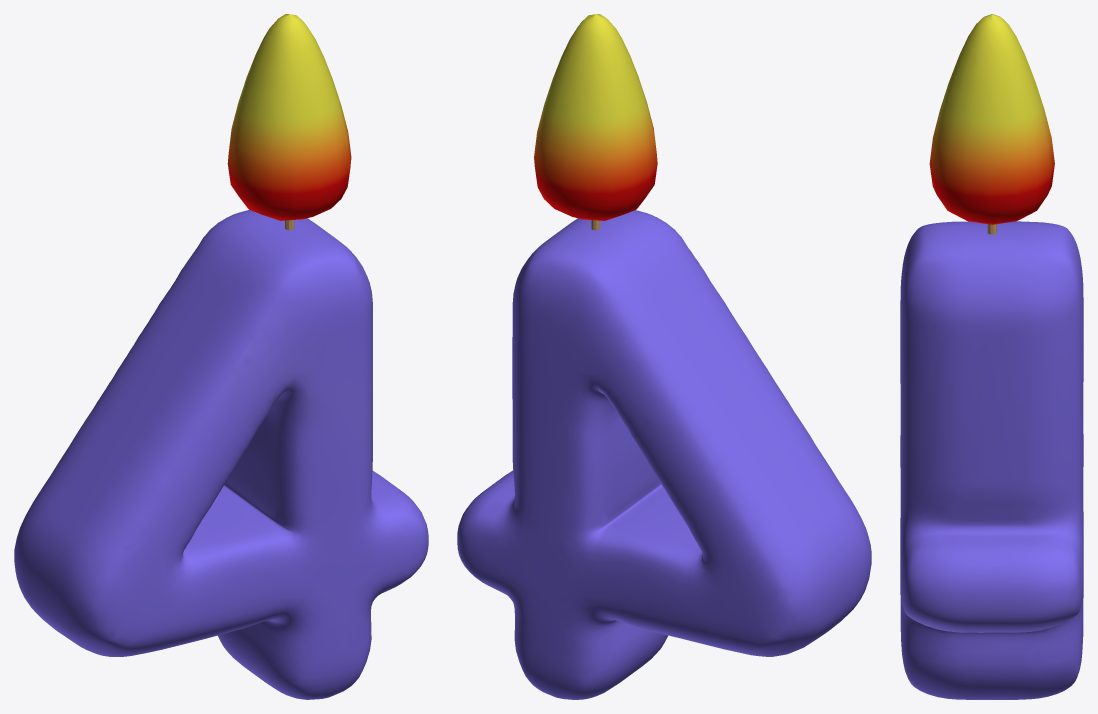
Rendered from candle_4.glb.
3 renders of one model, left to right at view 1: azimuth 30°, elevation 25°; view 2: azimuth 150°, elevation 25°; view 3: azimuth 270°, elevation 25°, orthographic.
Parts seen in each view (by area): view 1: candle_4, fire.004; view 2: candle_4, fire.004; view 3: candle_4, fire.004.
Part boxes in pixels (x1,y1,x2,y2): candle_4: (14, 210, 428, 699); fire.004: (227, 14, 351, 220); candle_4: (457, 210, 871, 699); fire.004: (534, 14, 657, 220); candle_4: (900, 221, 1083, 699); fire.004: (929, 14, 1054, 224).
Size of the model in its own units: 0.5294 by 0.9341 by 0.2294.
Materials: 1 (1 with a texture image).
